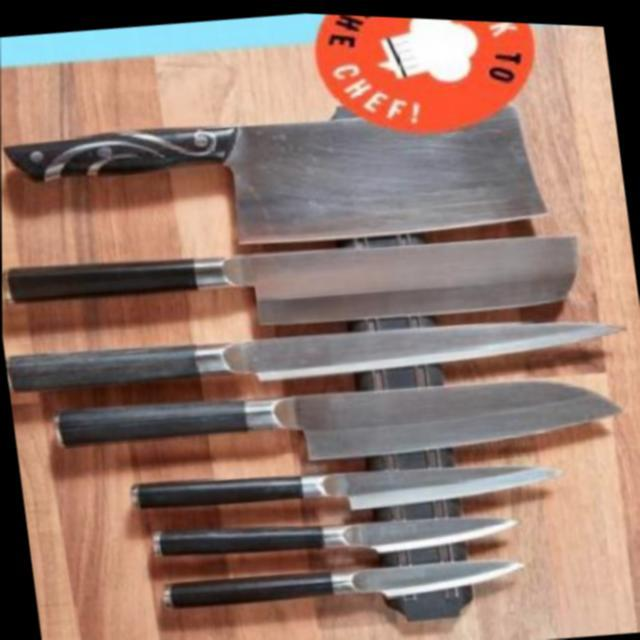weapon: (1, 65, 550, 283), (1, 195, 584, 368), (49, 336, 626, 503), (3, 274, 628, 424)
